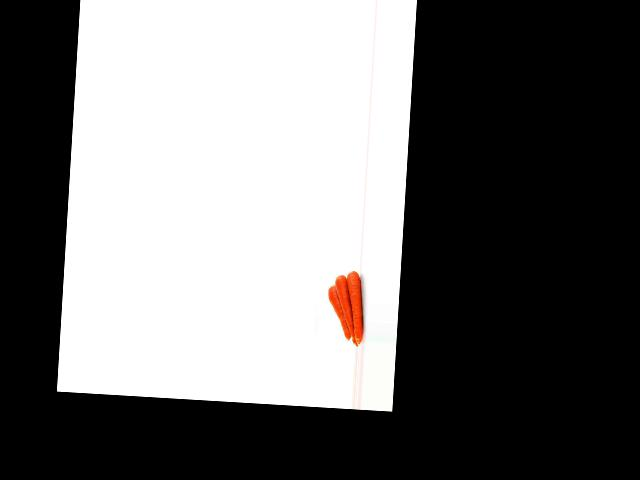carrot: (343, 268, 370, 344)
